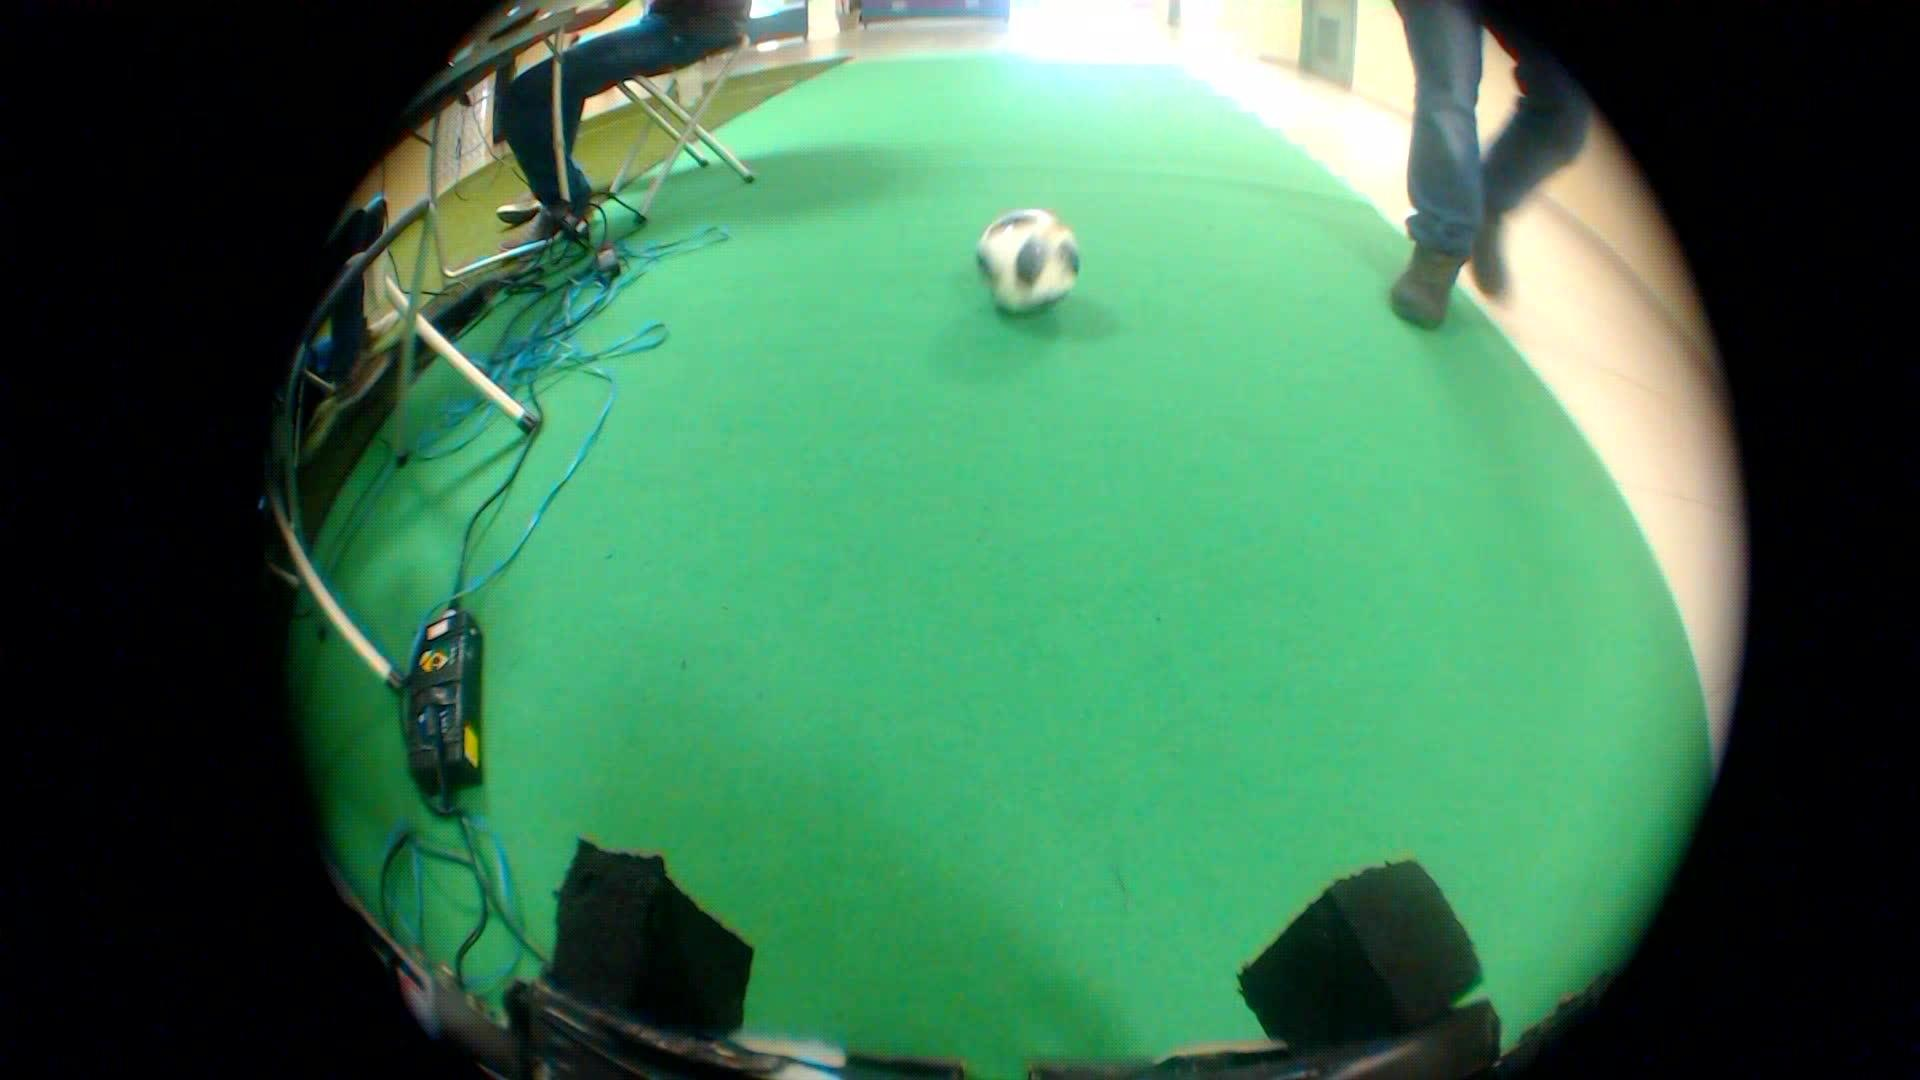ball: (960, 198, 1091, 324)
